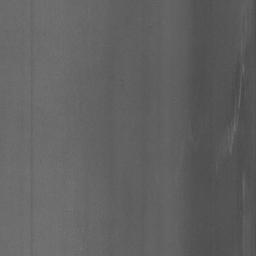Silk spot: (224, 61, 249, 130), (236, 171, 243, 244), (251, 0, 256, 56), (251, 212, 256, 256), (237, 131, 243, 155)
